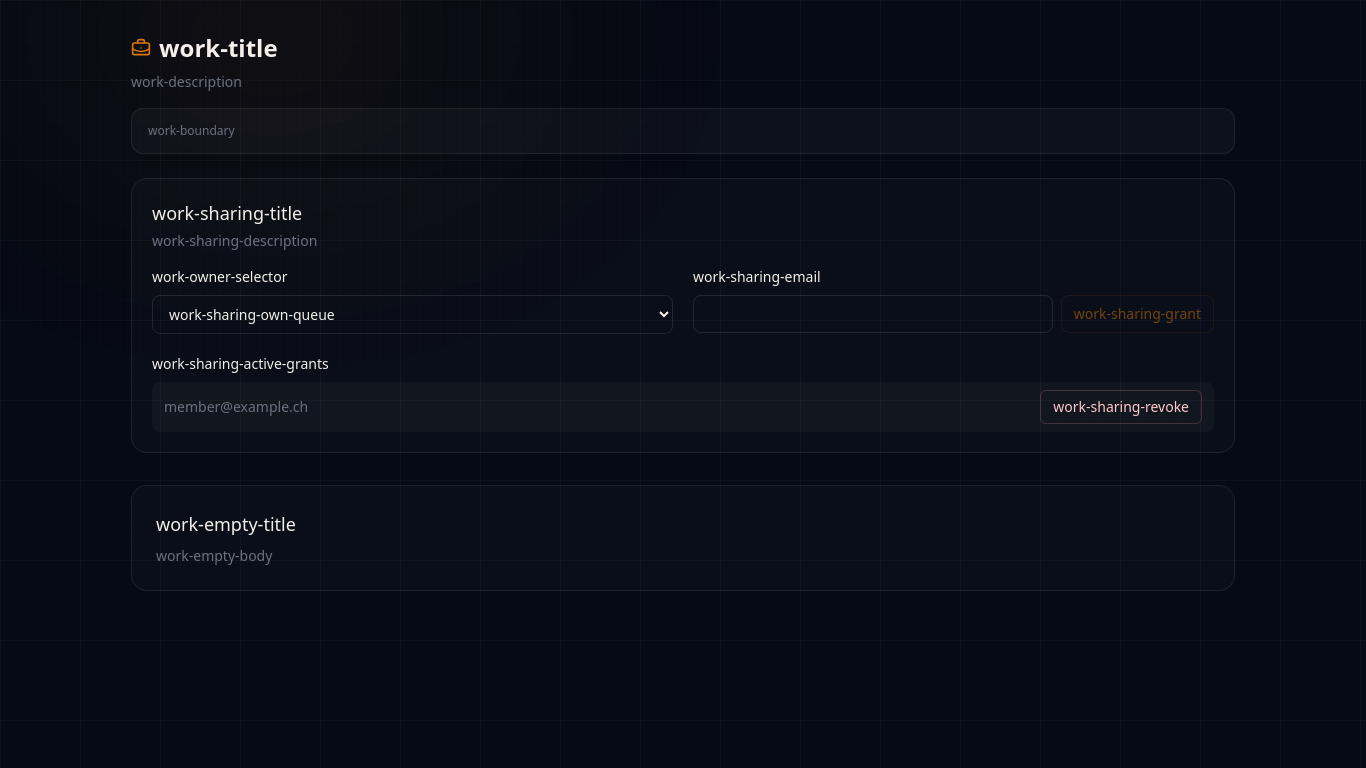
Test: owner compliance work queue page › revokes a confirmed owned grant only after RPC success
The width and height of the screenshot is (1366, 768).
Expected: the text "member@example.ch" is shown, [164, 397, 308, 417]
Step 1. Click the button with aria-label "work-sharing-revoke member@example.ch" → (1121, 407), box [1040, 390, 1202, 424]
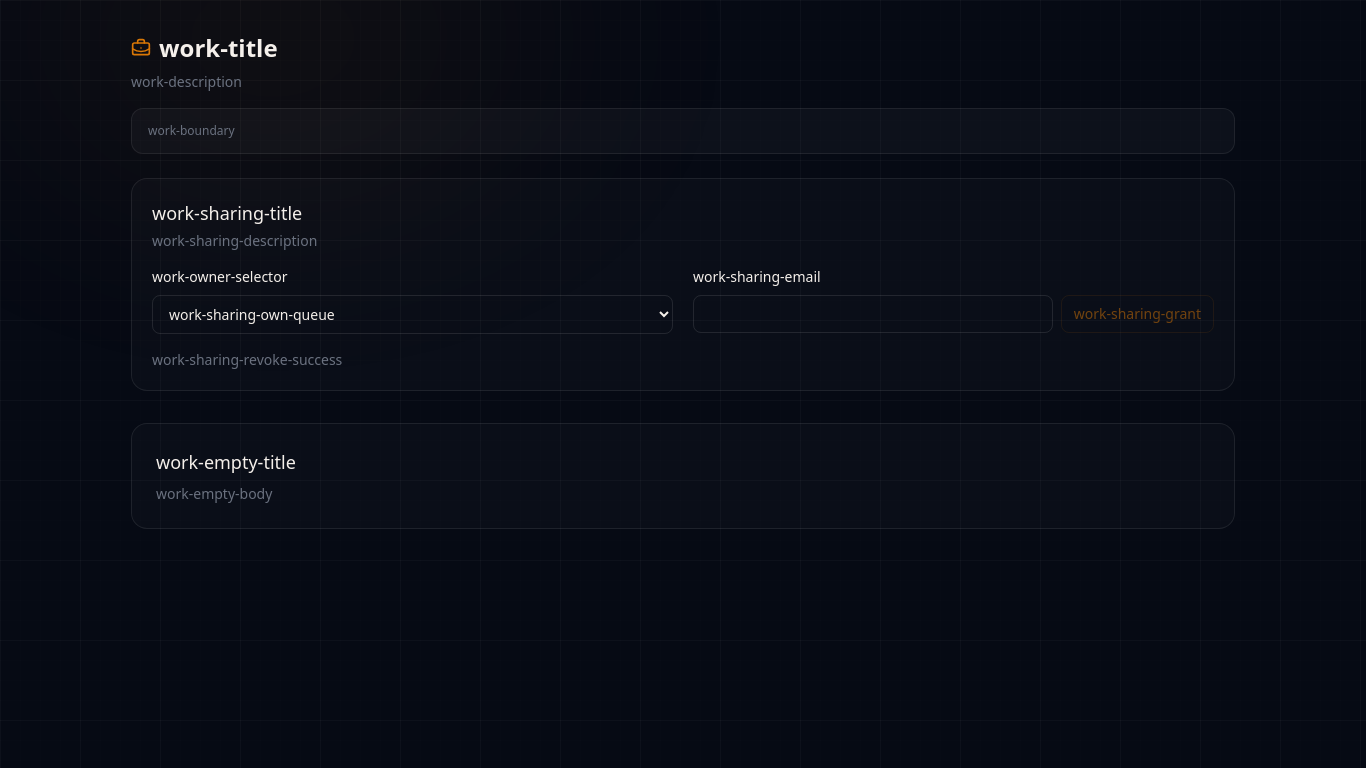
Now the text "member@example.ch" is gone
